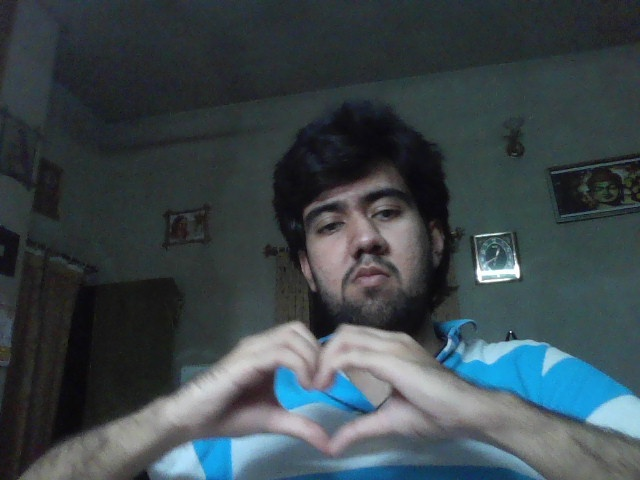Love: (187, 319, 461, 457)
